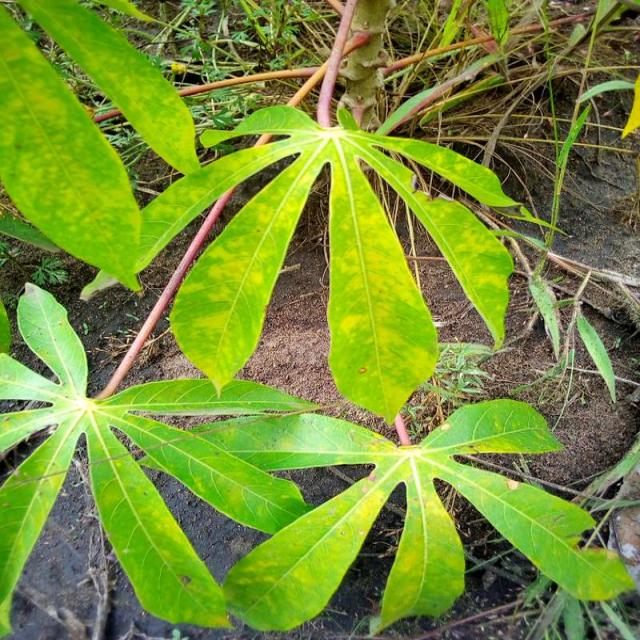cassava leaf: (1, 1, 634, 635), (159, 101, 520, 424), (0, 2, 143, 293), (326, 136, 439, 424)
